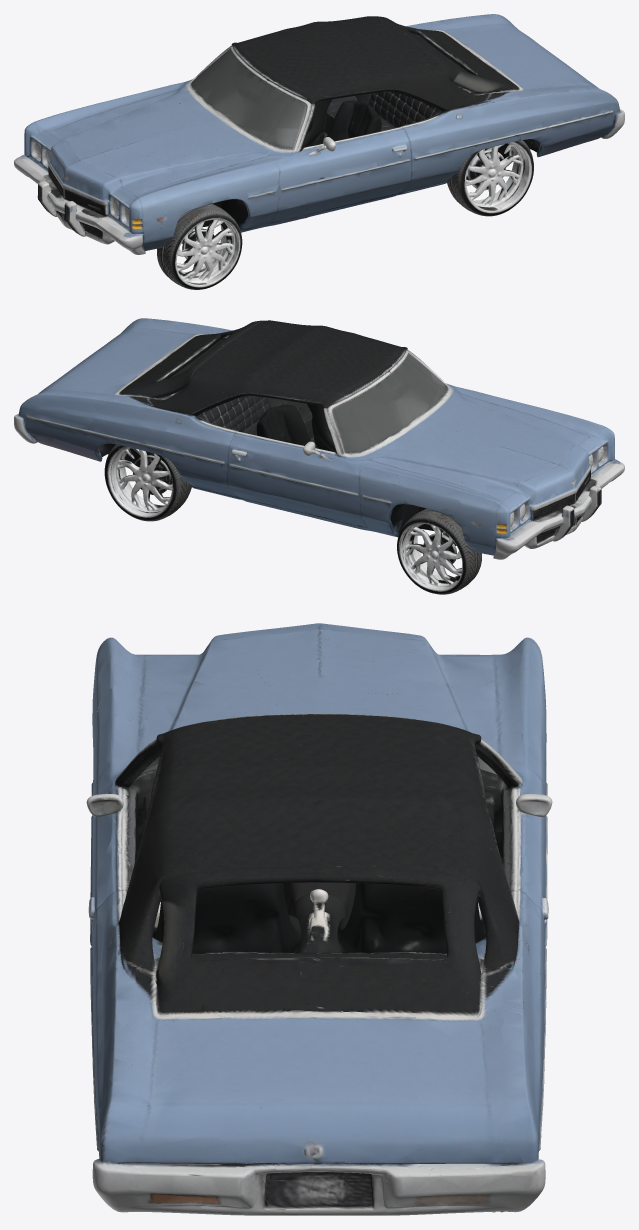
The model's file is blue-custom-scaled.glb.
3 renders of one model, top to bottom at view 1: azimuth 30°, elevation 25°; view 2: azimuth 150°, elevation 25°; view 3: azimuth 270°, elevation 25°, orthographic. The views are drawn at different scales.
Visible parts, largest first — view 1: Mesh_0; view 2: Mesh_0; view 3: Mesh_0.
Part boxes in pixels (bbox=[...]): Mesh_0: bbox=[14, 14, 624, 289]; Mesh_0: bbox=[14, 318, 624, 594]; Mesh_0: bbox=[86, 623, 552, 1215].
Size of the model in its own units: 5.71 by 1.67 by 2.21.
Materials: 1 (1 with a texture image).
